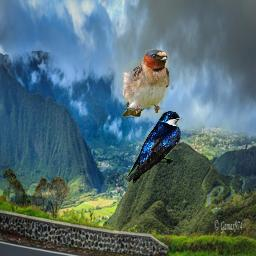Swallow: (125, 111, 182, 184), (121, 49, 171, 117)
